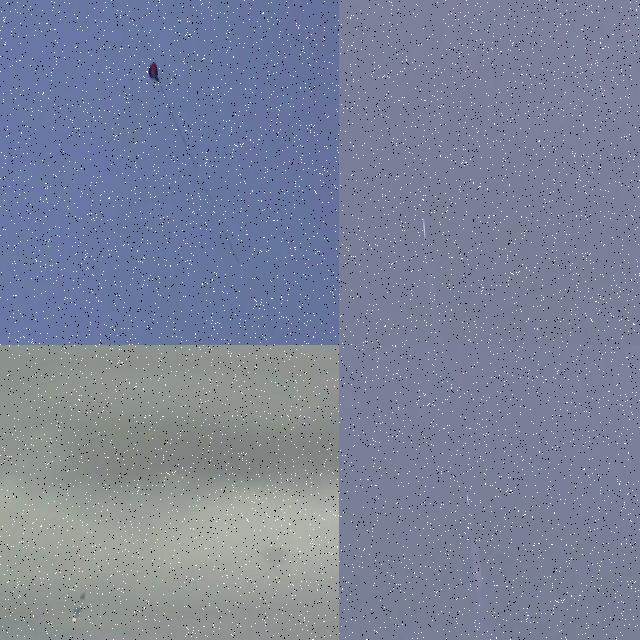Rocket: (69, 591, 88, 618), (422, 217, 426, 240), (466, 493, 470, 508)
